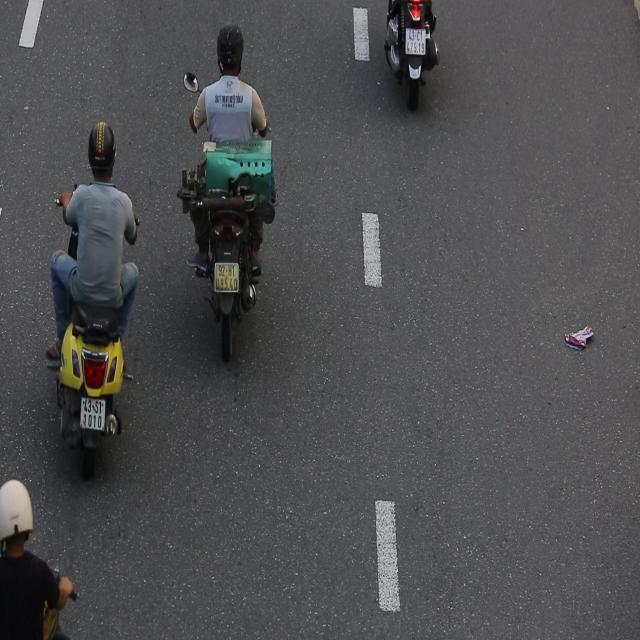motorbike: (44, 111, 143, 480), (180, 18, 278, 372)
